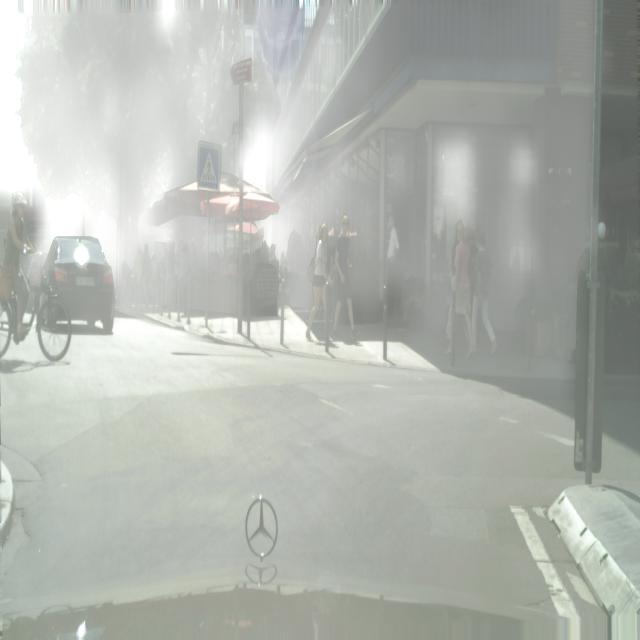car: (0, 183, 72, 364)
person: (468, 231, 497, 359), (446, 220, 472, 362), (332, 214, 360, 343), (305, 221, 332, 344), (385, 211, 401, 321), (176, 239, 192, 322), (142, 242, 152, 309), (134, 244, 143, 309)
truck: (43, 236, 115, 332)
